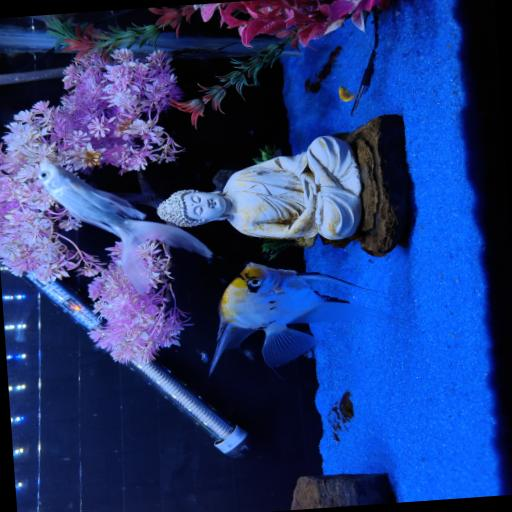Fish: (39, 160, 212, 293), (210, 262, 415, 372), (339, 86, 360, 100)
